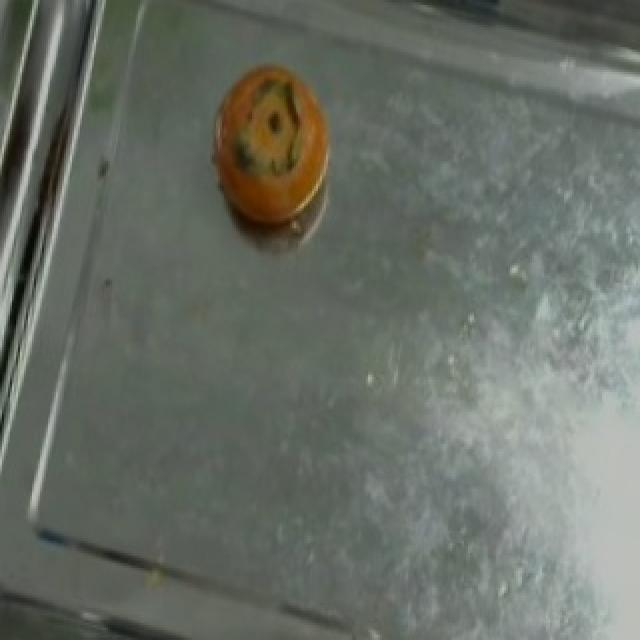Fruit: (188, 42, 348, 248)
